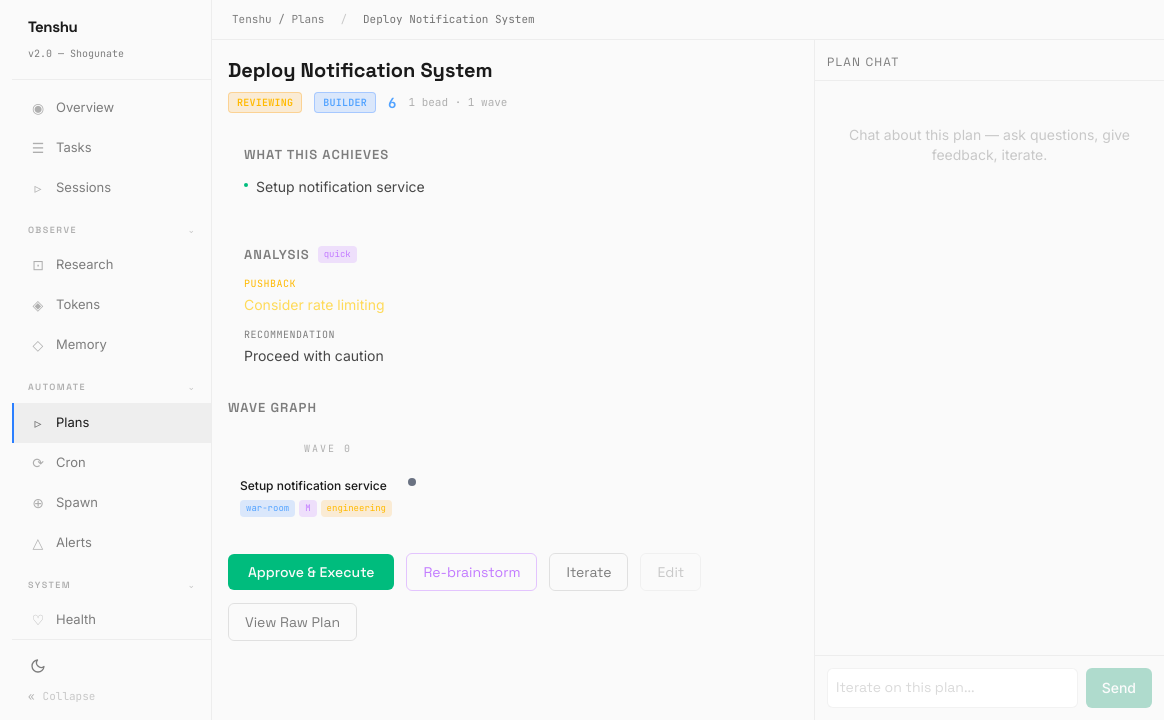
Scenario: PlanDetailPage — Iterate UI › enables Submit Feedback when textarea has content
Step 1. Click the button "Iterate" → coordinates (589, 572), box [550,553,628,591]
(page scrolled)
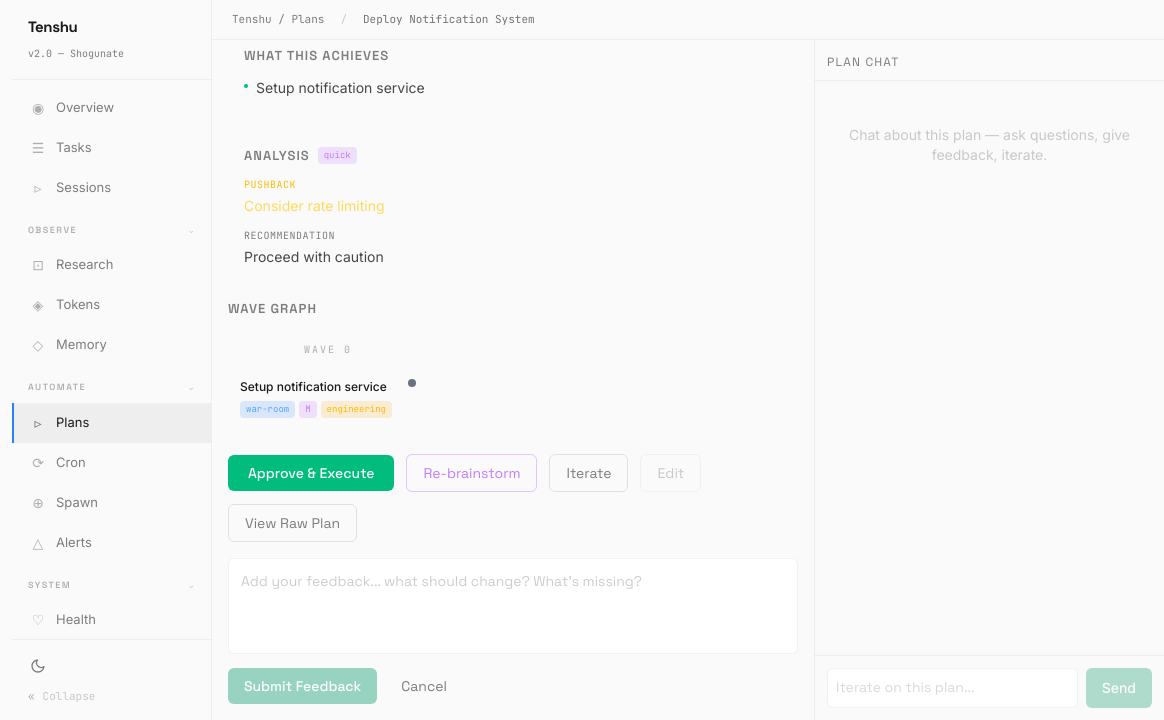
Step 2. Type "Add more beads" into the text box with placeholder "Add your feedback... what should change? What's missing?" → coordinates (513, 606), box [228,558,798,654]
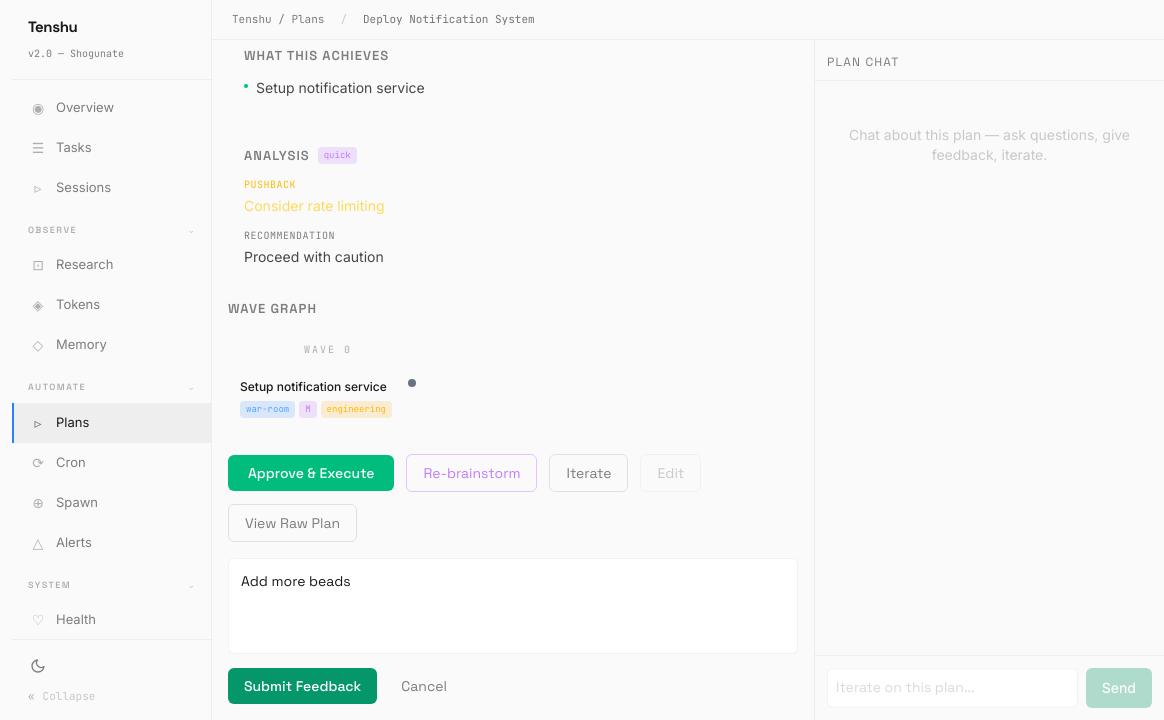
Check: the button "Submit Feedback" is enabled, box [228,668,377,704]
